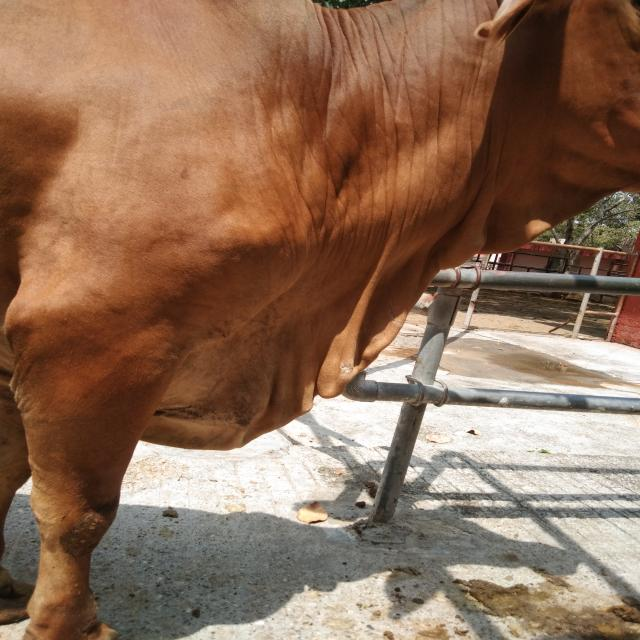Hoof: (22, 620, 119, 639)
